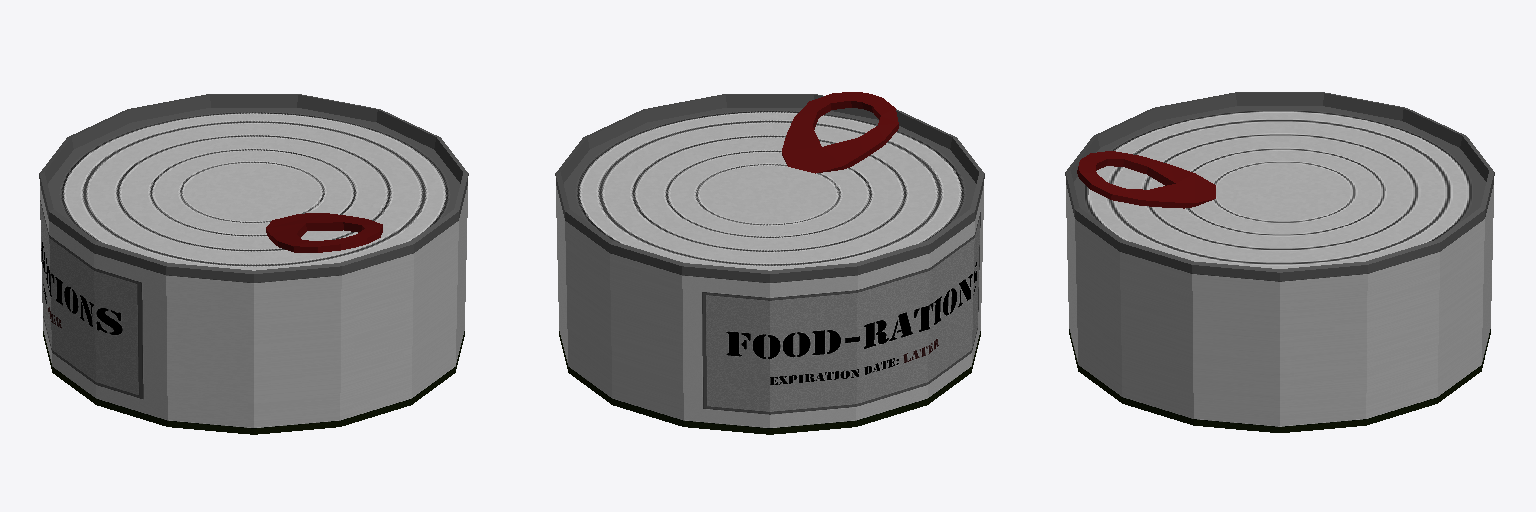
3 views of the same model, side by side, from view 1: azimuth 30°, elevation 25°; view 2: azimuth 150°, elevation 25°; view 3: azimuth 270°, elevation 25° (orthographic).
Parts seen in each view (by area): view 1: polySurface3; view 2: polySurface3; view 3: polySurface3.
Boxes of the visible parts, x1=… form: polySurface3: x1=39, y1=94, x2=468, y2=434; polySurface3: x1=555, y1=92, x2=984, y2=434; polySurface3: x1=1065, y1=92, x2=1494, y2=432.
Bounding box in the file's own units: 2.31 × 1.06 × 2.32.
Materials: 1 (1 with a texture image).